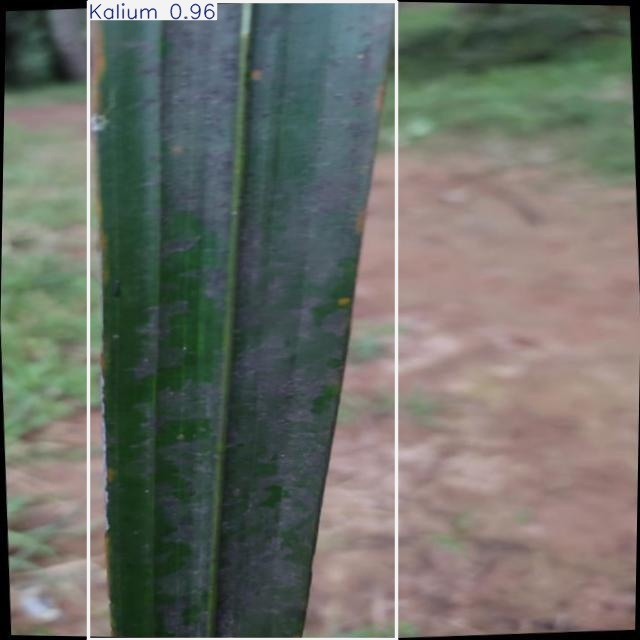Kalium: (88, 2, 396, 639)
